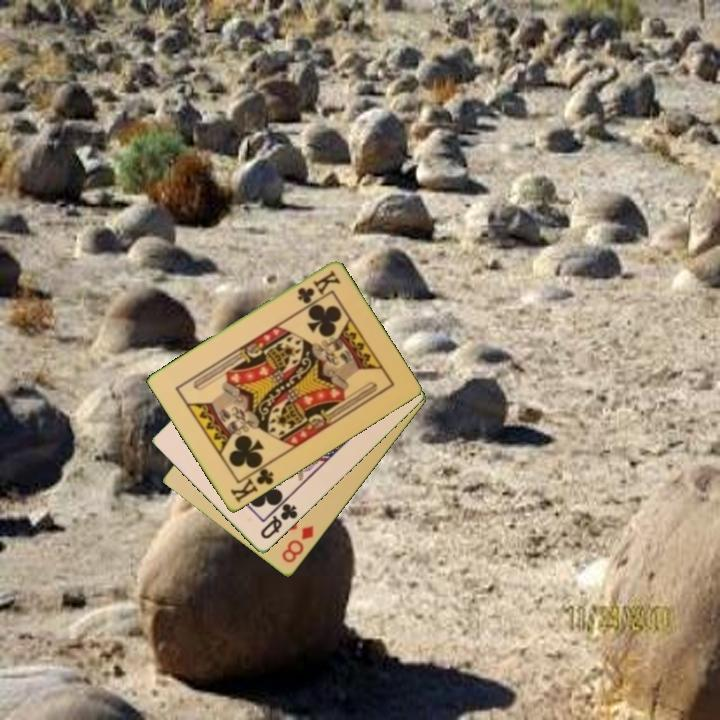8d: (278, 522, 317, 566)
Kc: (226, 461, 277, 506), (294, 267, 343, 307)
Qc: (257, 495, 301, 543)
